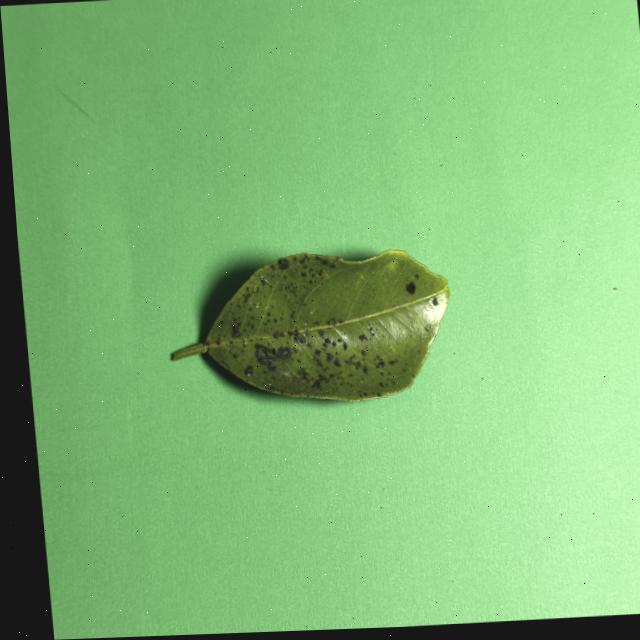sooty_mold: (173, 250, 448, 400)
